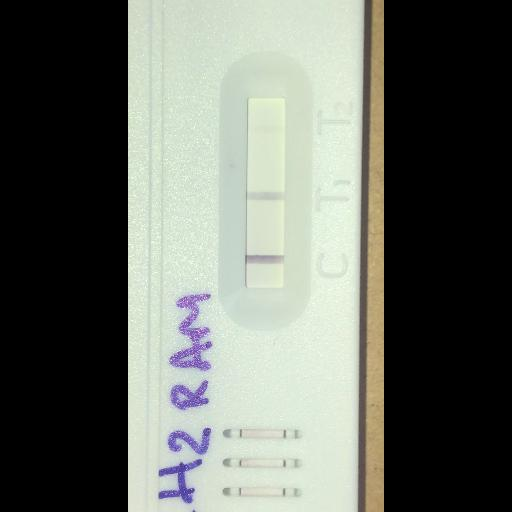Pos: (129, 0, 367, 511)
